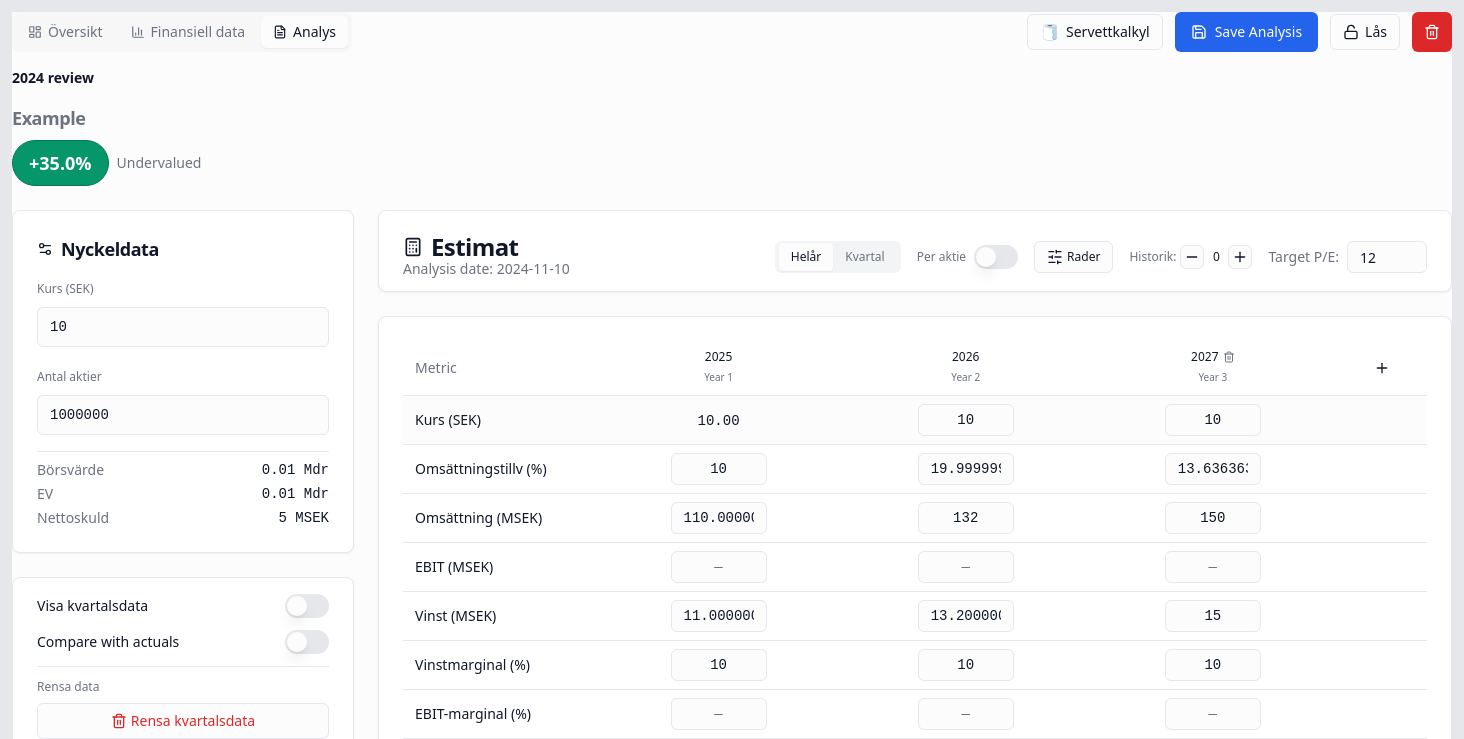
Scenario: opening an old analysis › does not mix actuals in a changed reporting currency into the old analysis
Click the switch named "Compare with actuals" next to "Compare with actuals".
click(307, 642)  # box [285, 630, 329, 654]
Wait 40 ms
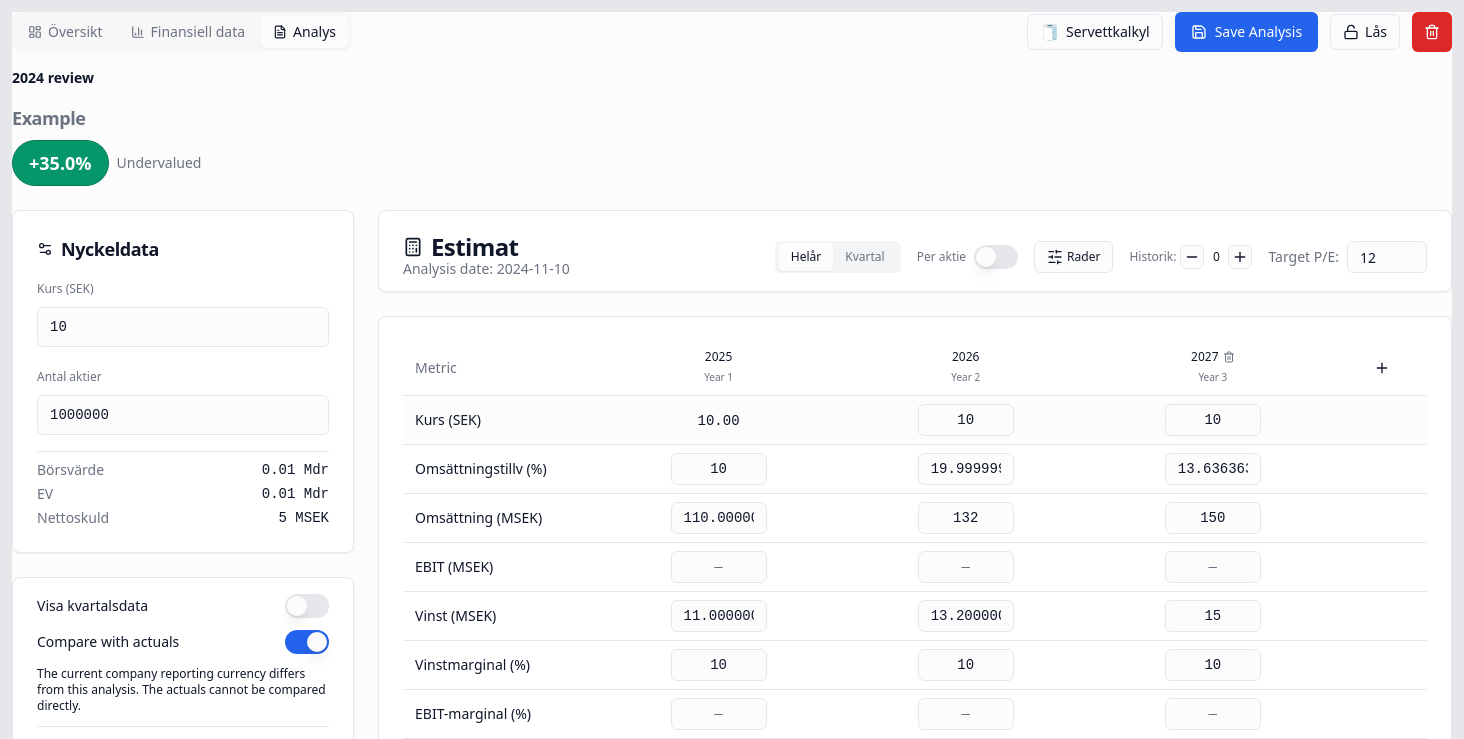
expect the field labelled "Kurs (SEK)" holds "10": met, box [37, 307, 329, 347]
expect the text "current company reporting currency differs" is shown: met, box [37, 665, 326, 714]
